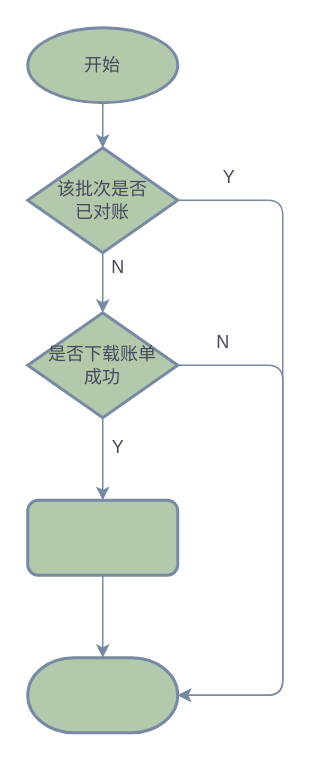
Image size: 321x759. Some labels were removed from this diagram. The centre of each missing label's shape, as x and y in pixels:
对账: (102,537)
结束: (102,695)
